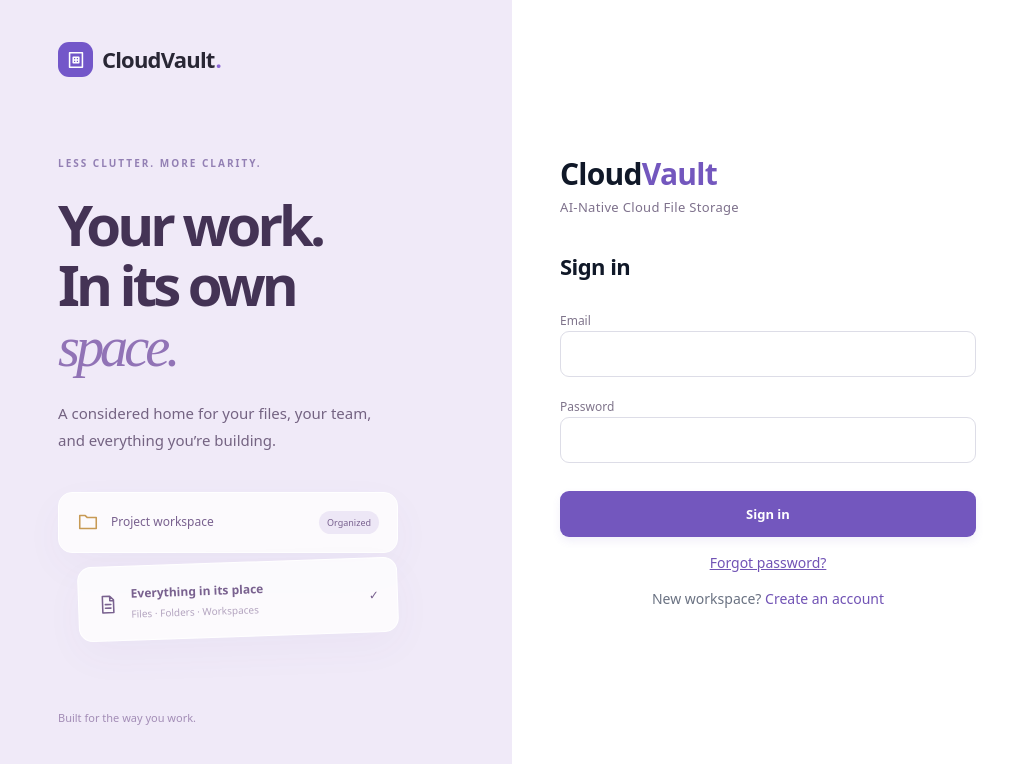
Test: Authentication flows › signs in, opens the protected page, then signs out
Type "ada@example.com" into the field labelled "Email" at (768, 354), box top-left (560, 331), bottom-right (976, 377)
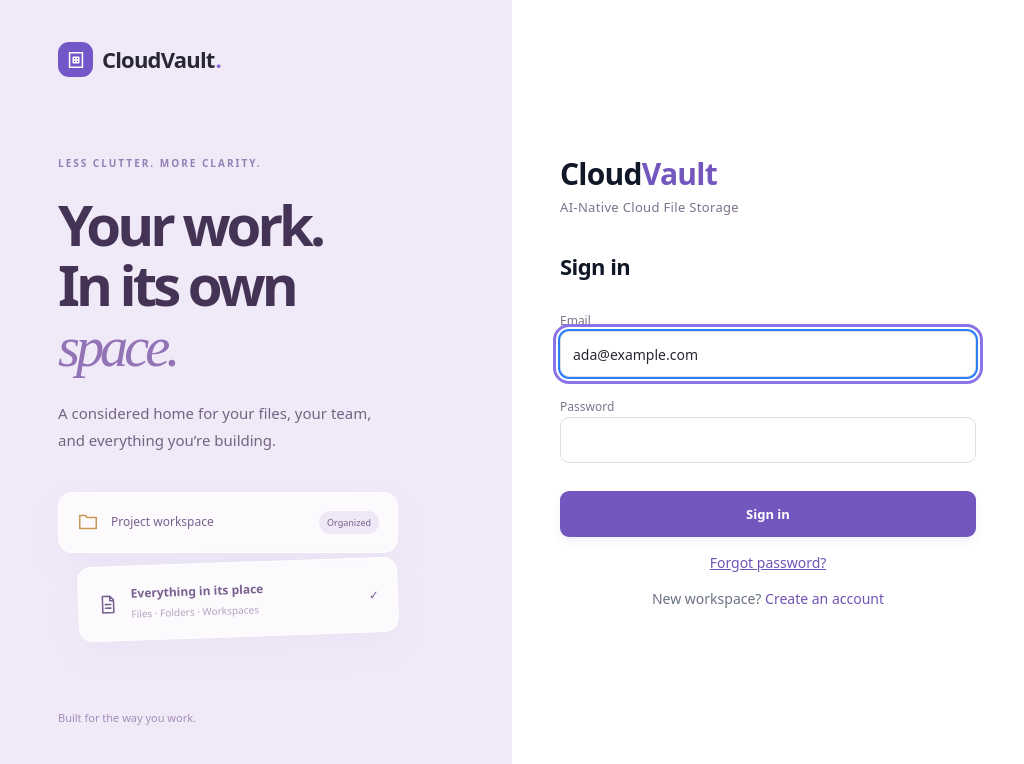
Type "correct-horse" into the password field labelled "Password" at (768, 440), box top-left (560, 417), bottom-right (976, 463)
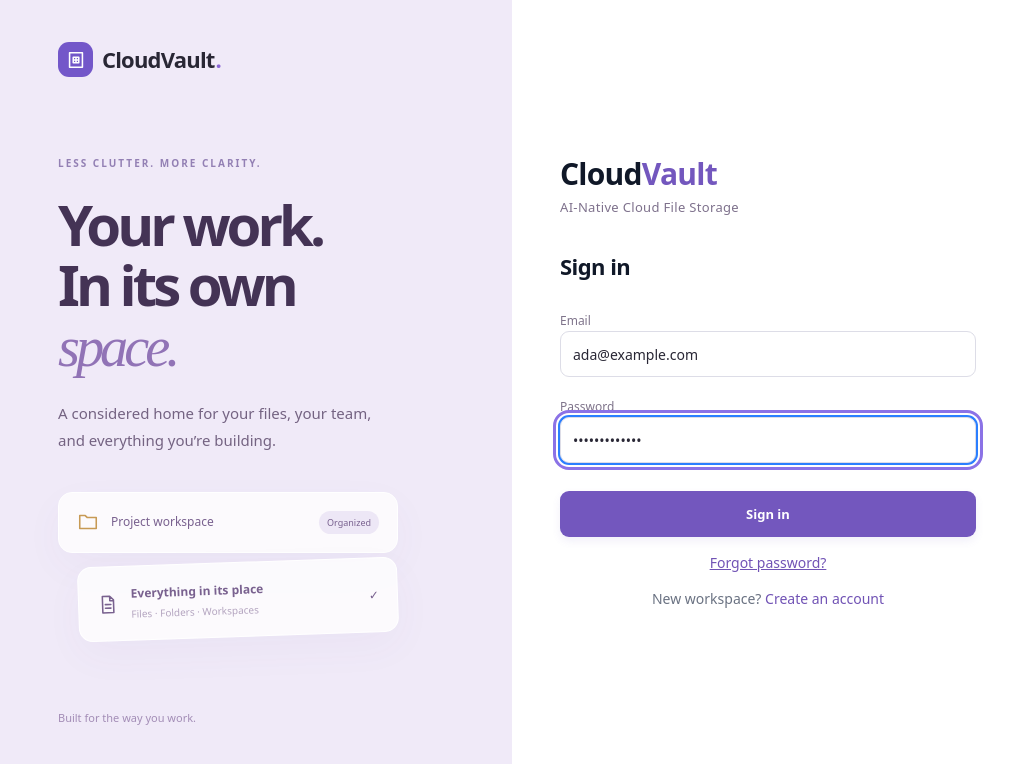
Click the button "Sign in" at (768, 514), box top-left (560, 491), bottom-right (976, 537)
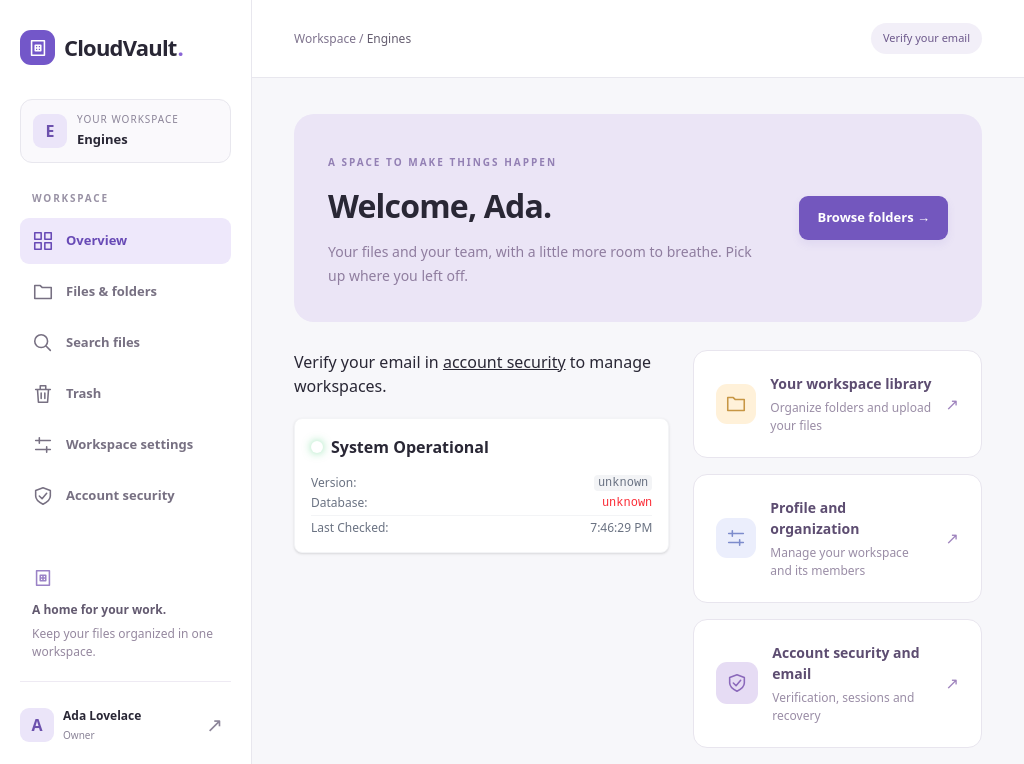
Expected: the text "Ada Lovelace" is shown, top-left (63, 707), bottom-right (141, 724)
Click the button named "Sign out" at (215, 725), box top-left (198, 702), bottom-right (231, 748)
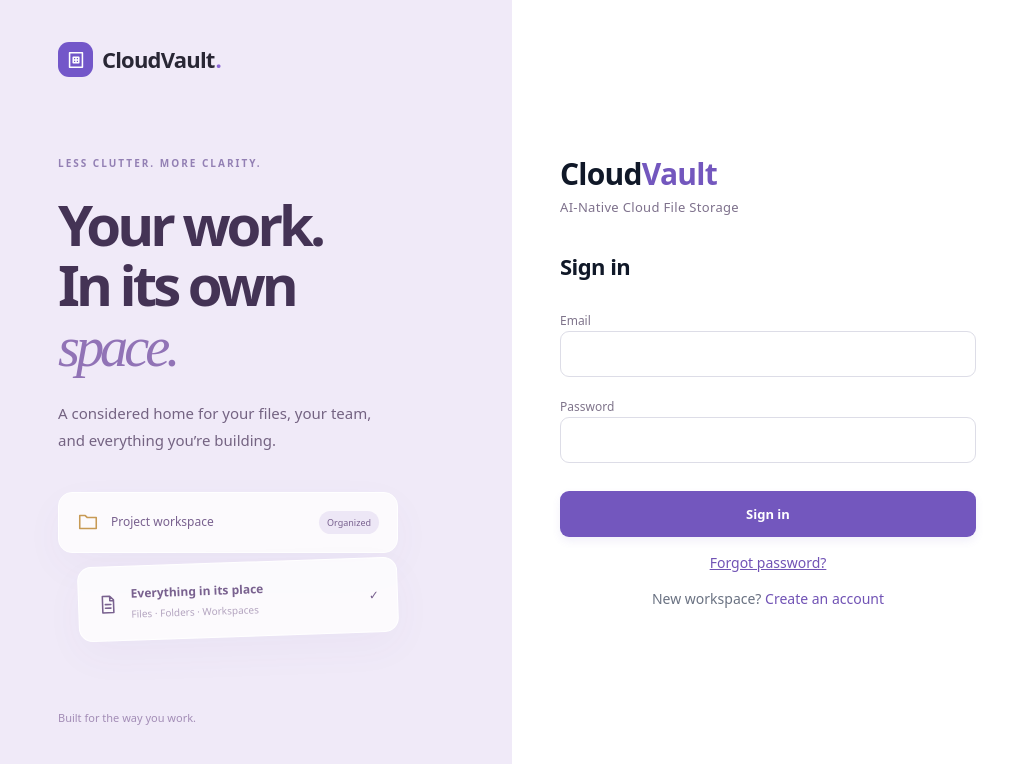
Expected: the button "Sign in" is shown, top-left (560, 491), bottom-right (976, 537)
